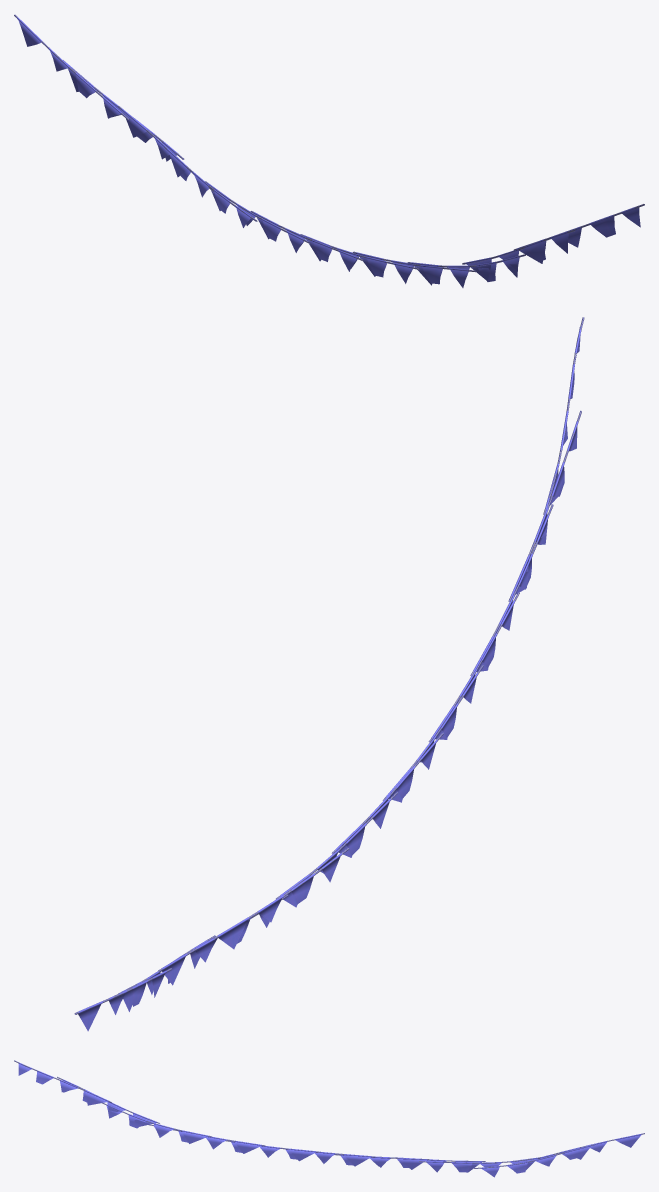
The model's file is SM_rope_flags_01_Splines_5.fbx.
The picture shows the model from 3 angles, top to bottom: view 1: azimuth 30°, elevation 25°; view 2: azimuth 150°, elevation 25°; view 3: azimuth 270°, elevation 25°; orthographic projection. The views are drawn at different scales.
Parts seen in each view (by area): view 1: SM_rope_flags_01_Splines_5_LOD0; view 2: SM_rope_flags_01_Splines_5_LOD0; view 3: SM_rope_flags_01_Splines_5_LOD0.
Part boxes in pixels (<box>): SM_rope_flags_01_Splines_5_LOD0: <box>14,14,644,287</box>; SM_rope_flags_01_Splines_5_LOD0: <box>74,317,584,1031</box>; SM_rope_flags_01_Splines_5_LOD0: <box>14,1060,644,1177</box>.
Size of the model in its own units: 258 by 2273 by 554.
